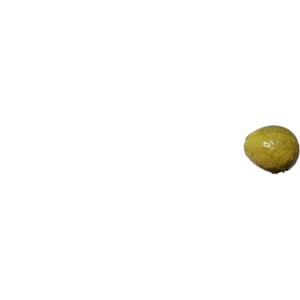goiaba: (244, 122, 298, 178)
